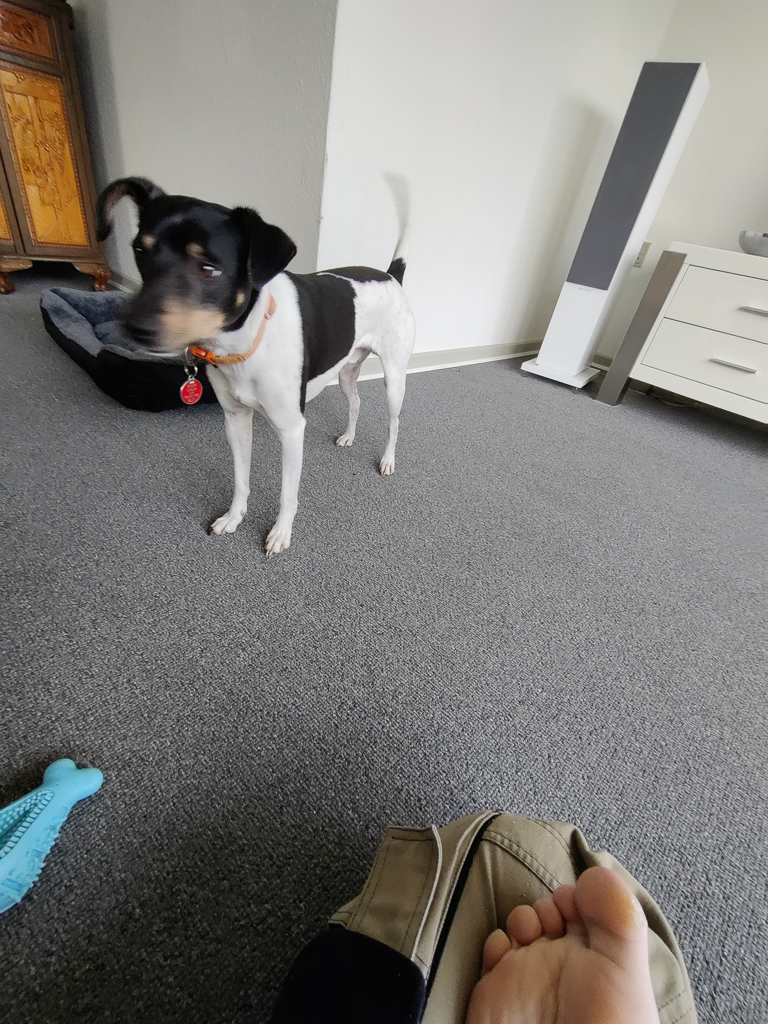Dog: (63, 145, 441, 569)
Humanoid: (235, 777, 726, 1024)
